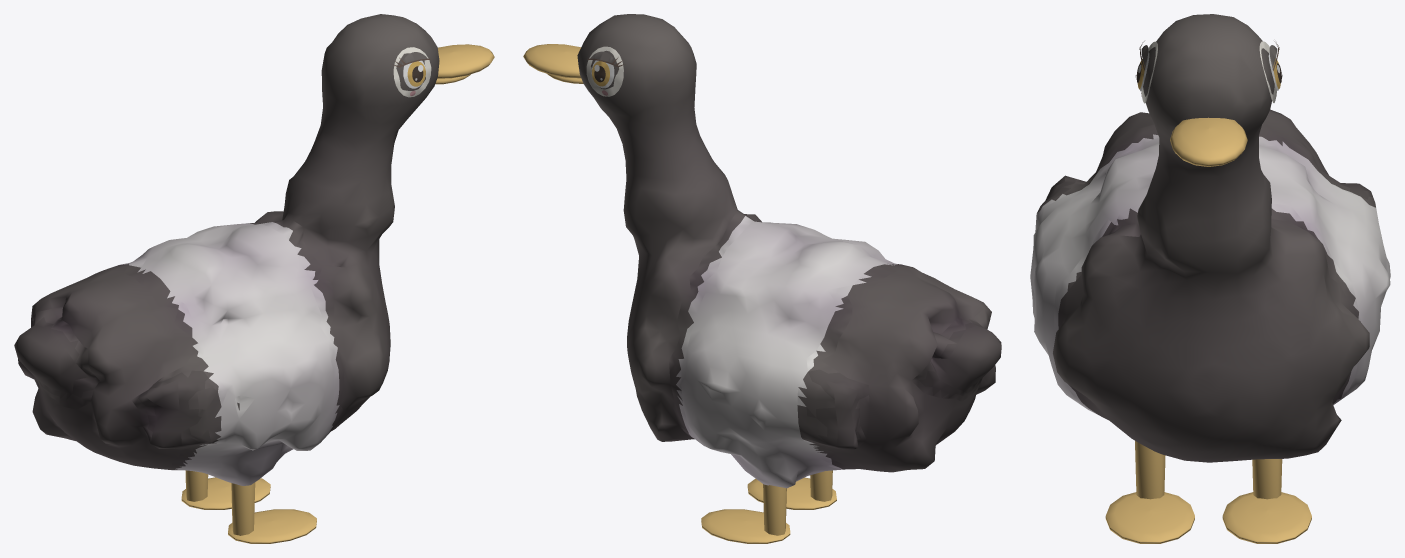
Rendered from tuxedo_goose.glb.
3 views of the same model, side by side, from view 1: azimuth 30°, elevation 25°; view 2: azimuth 150°, elevation 25°; view 3: azimuth 270°, elevation 25° (orthographic). The views are drawn at different scales.
Visible parts, largest first — view 1: tuxedo_goose; view 2: tuxedo_goose; view 3: tuxedo_goose.
Part boxes in pixels (<box>): tuxedo_goose: <box>14,14,494,543</box>; tuxedo_goose: <box>523,14,1001,543</box>; tuxedo_goose: <box>1030,14,1390,543</box>.
Size of the model in its own units: 0.7062 by 0.6639 by 0.3722.
